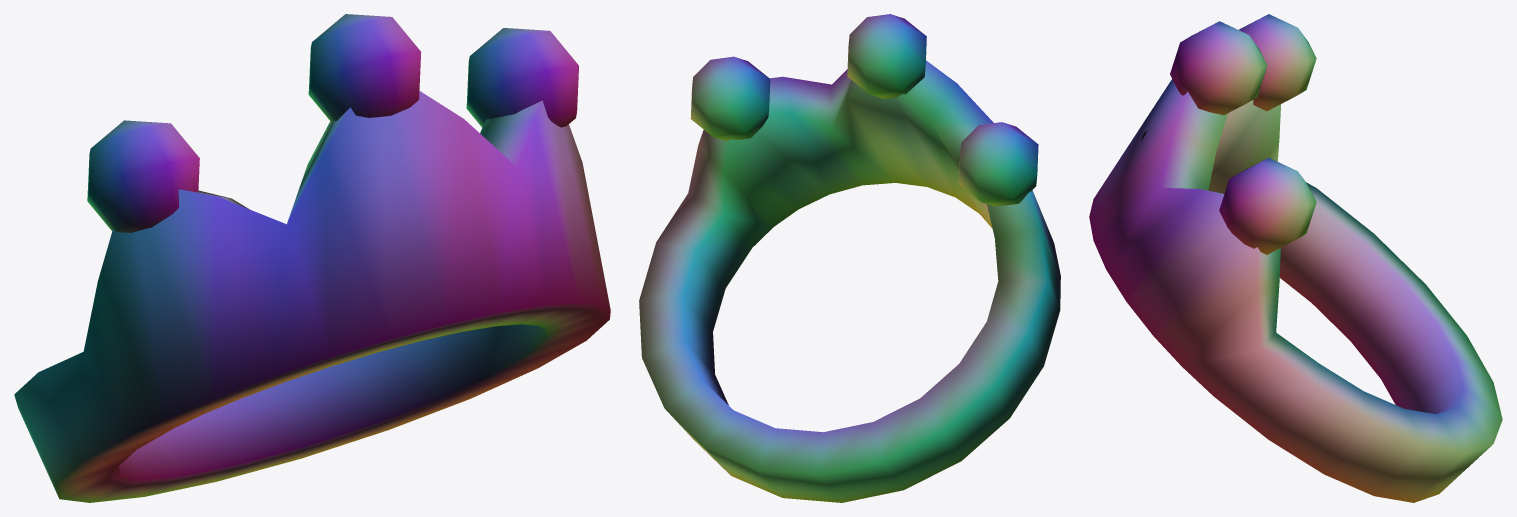
File: SM_FX_EliteCrown_March.fbx
3 views of the same model, side by side, from view 1: azimuth 30°, elevation 25°; view 2: azimuth 150°, elevation 25°; view 3: azimuth 270°, elevation 25° (orthographic). The views are drawn at different scales.
Parts seen in each view (by area): view 1: SM_FX_EliteCrown_March; view 2: SM_FX_EliteCrown_March; view 3: SM_FX_EliteCrown_March.
Part boxes in pixels (box(x1,y1,x2,y2)): SM_FX_EliteCrown_March: box(14, 14, 610, 502); SM_FX_EliteCrown_March: box(639, 14, 1060, 502); SM_FX_EliteCrown_March: box(1089, 14, 1502, 502).
Size of the model in its own units: 0.3275 by 0.3404 by 0.2868.
